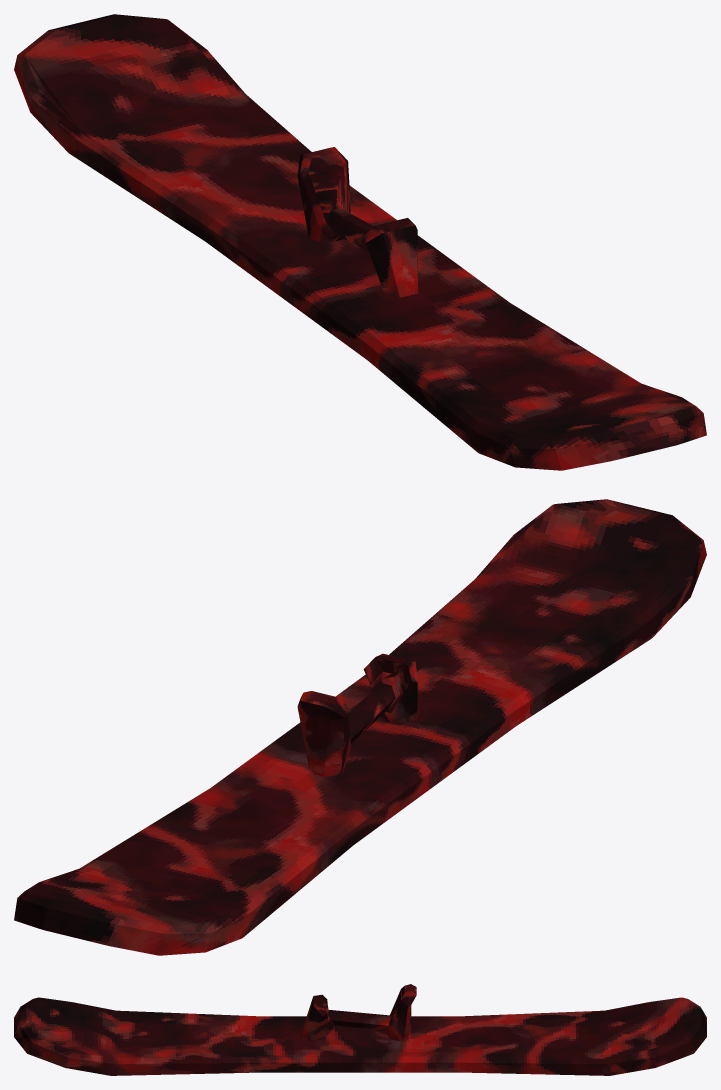
Rendered from item_snowboard_blood.glb.
The picture shows the model from 3 angles, top to bottom: view 1: azimuth 30°, elevation 25°; view 2: azimuth 150°, elevation 25°; view 3: azimuth 270°, elevation 25°; orthographic projection. The views are drawn at different scales.
Visible parts, largest first — view 1: Snowboard; view 2: Snowboard; view 3: Snowboard.
Part boxes in pixels (<box>): Snowboard: <box>14,14,706,470</box>; Snowboard: <box>14,499,706,955</box>; Snowboard: <box>14,984,706,1075</box>.
Bounding box in the file's own units: 0.3666 × 0.198 × 2.01.
Materials: 1 (1 with a texture image).
